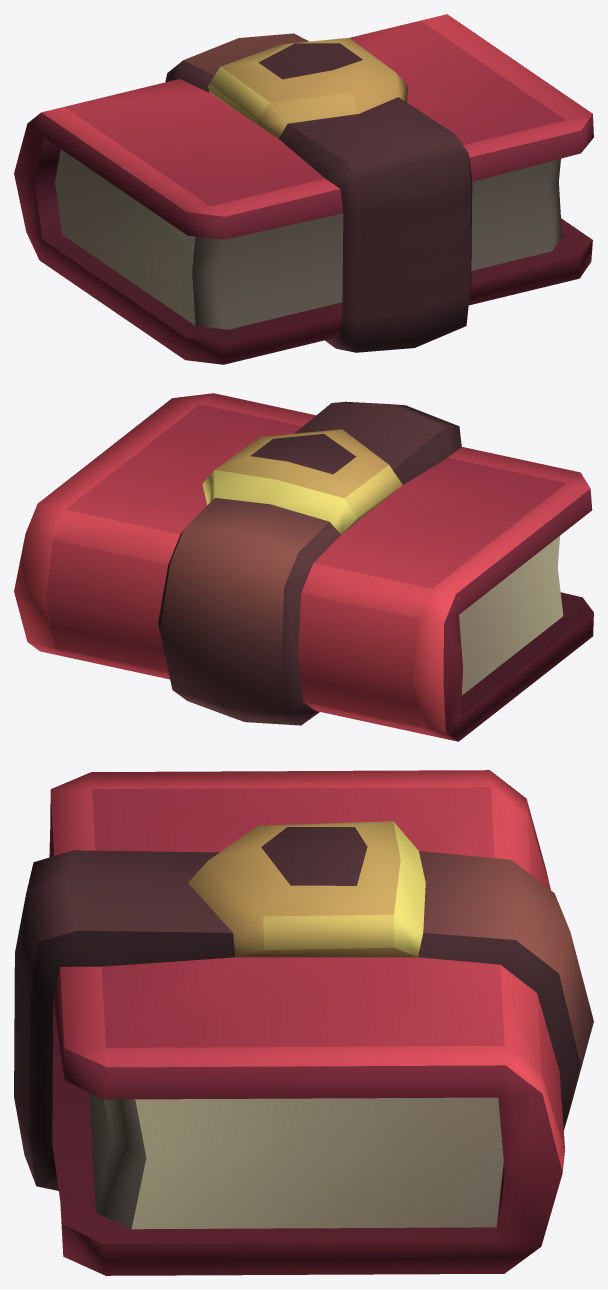
File: book.fbx
The picture shows the model from 3 angles, top to bottom: view 1: azimuth 30°, elevation 25°; view 2: azimuth 150°, elevation 25°; view 3: azimuth 270°, elevation 25°; orthographic projection. The views are drawn at different scales.
Visible parts, largest first — view 1: book; view 2: book; view 3: book.
Boxes of the visible parts, x1,y1,x2,y2 form: book: (14, 14, 593, 364); book: (14, 393, 593, 741); book: (14, 770, 593, 1275).
Size of the model in its own units: 35.42 by 18.15 by 29.39.
